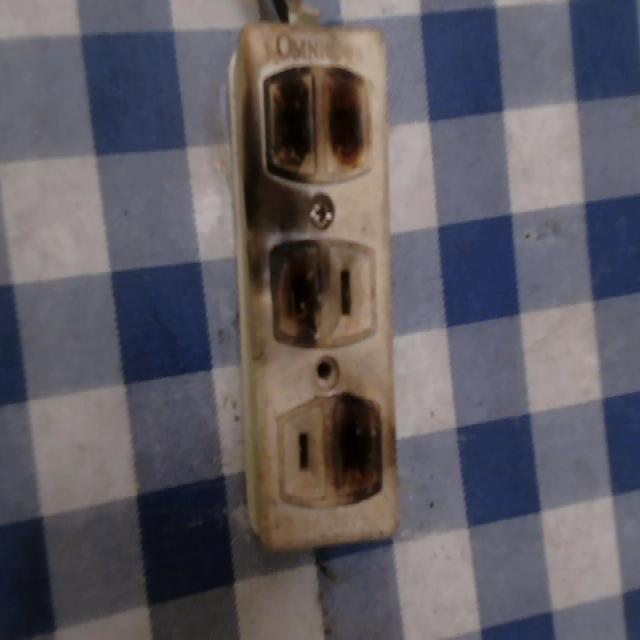-: (256, 58, 369, 174), (265, 227, 332, 360), (327, 387, 386, 505)
